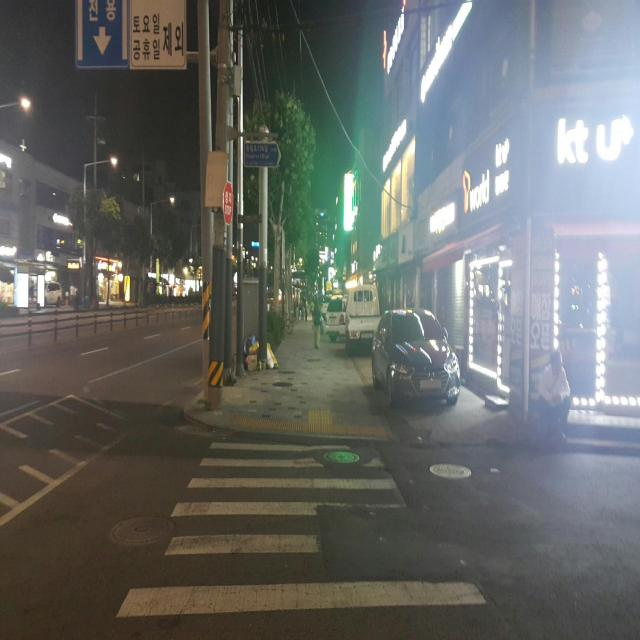횡단보도: (113, 436, 489, 624)
